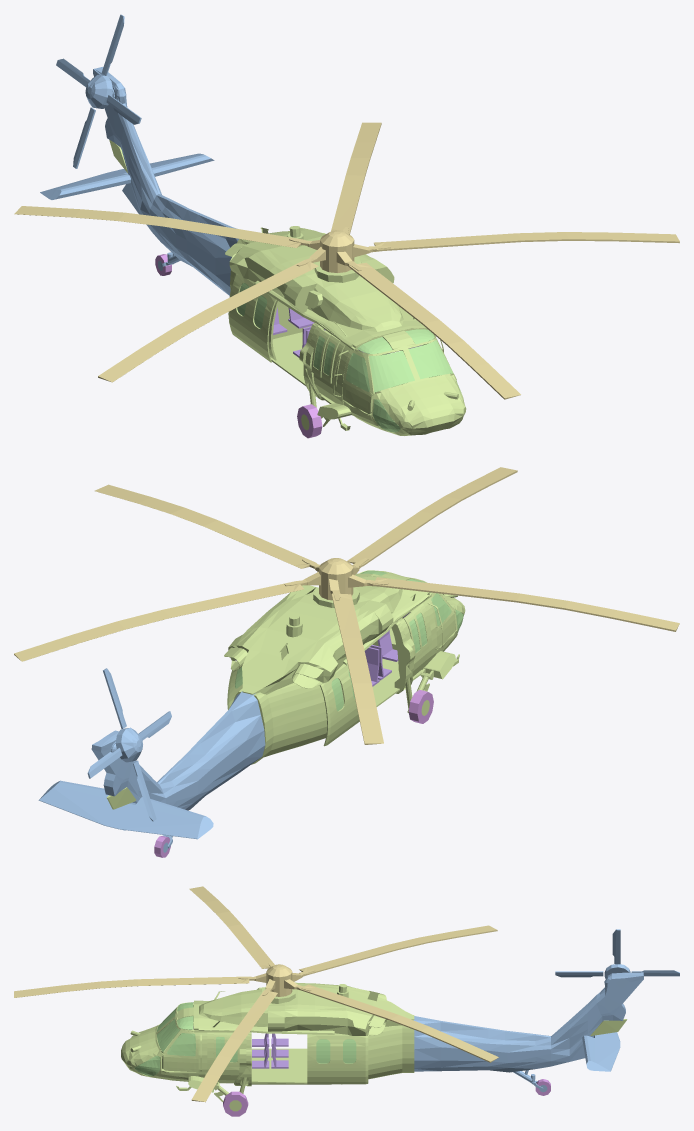
File: air-rotary-rot-04.glb
3 views of the same model, one above another, from view 1: azimuth 30°, elevation 25°; view 2: azimuth 150°, elevation 25°; view 3: azimuth 270°, elevation 25° (orthographic). The views are drawn at different scales.
Visible parts, largest first — view 1: CC_ROT_04_Body_01, CC_ROT_04_RotorBlades, CC_ROT_04_MainRotor, CC_ROT_04_RearRotor_Blades, CC_ROT_04_GunnerGlass_Closed, CC_ROT_04_RearRotor; view 2: CC_ROT_04_Body_01, CC_ROT_04_RotorBlades, CC_ROT_04_MainRotor, CC_ROT_04_RearRotor_Blades, CC_ROT_04_GunnerGlass_Closed, CC_ROT_04_RearRotor; view 3: CC_ROT_04_Body_01, CC_ROT_04_RotorBlades, CC_ROT_04_MainRotor, CC_ROT_04_RearRotor_Blades, CC_ROT_04_GunnerGlass_Closed.
Part boxes in pixels (left/top/right/bottom): CC_ROT_04_Body_01: left=40, top=67, right=466, bottom=438; CC_ROT_04_RotorBlades: left=14, top=122, right=679, bottom=399; CC_ROT_04_MainRotor: left=289, top=227, right=390, bottom=272; CC_ROT_04_RearRotor_Blades: left=56, top=14, right=141, bottom=168; CC_ROT_04_GunnerGlass_Closed: left=305, top=325, right=424, bottom=385; CC_ROT_04_RearRotor: left=85, top=74, right=112, bottom=108; CC_ROT_04_Body_01: left=38, top=570, right=465, bottom=857; CC_ROT_04_RotorBlades: left=14, top=467, right=679, bottom=744; CC_ROT_04_MainRotor: left=284, top=558, right=388, bottom=600; CC_ROT_04_RearRotor_Blades: left=87, top=668, right=171, bottom=821; CC_ROT_04_GunnerGlass_Closed: left=397, top=605, right=428, bottom=674; CC_ROT_04_RearRotor: left=115, top=727, right=142, bottom=762; CC_ROT_04_Body_01: left=121, top=972, right=643, bottom=1116; CC_ROT_04_RotorBlades: left=14, top=886, right=498, bottom=1102; CC_ROT_04_MainRotor: left=238, top=962, right=315, bottom=996; CC_ROT_04_RearRotor_Blades: left=555, top=929, right=679, bottom=977; CC_ROT_04_GunnerGlass_Closed: left=213, top=1032, right=246, bottom=1077.
Bounding box in the file's own units: 15.83 × 5.78 × 20.71.
